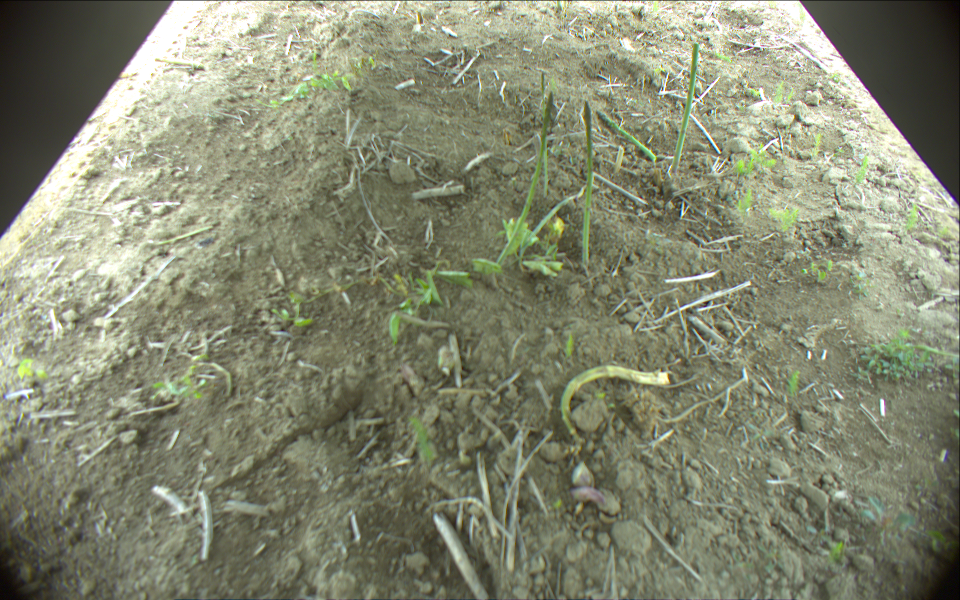aspa: (493, 91, 554, 268), (559, 365, 670, 440), (670, 42, 700, 175), (597, 110, 657, 162), (579, 97, 592, 262), (539, 71, 550, 197)
